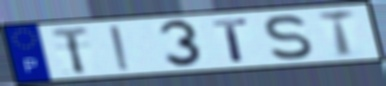3: (156, 18, 207, 70)
I: (106, 24, 134, 72)
S: (263, 13, 315, 62)
T: (48, 25, 91, 76), (316, 8, 358, 59), (210, 17, 251, 63)
